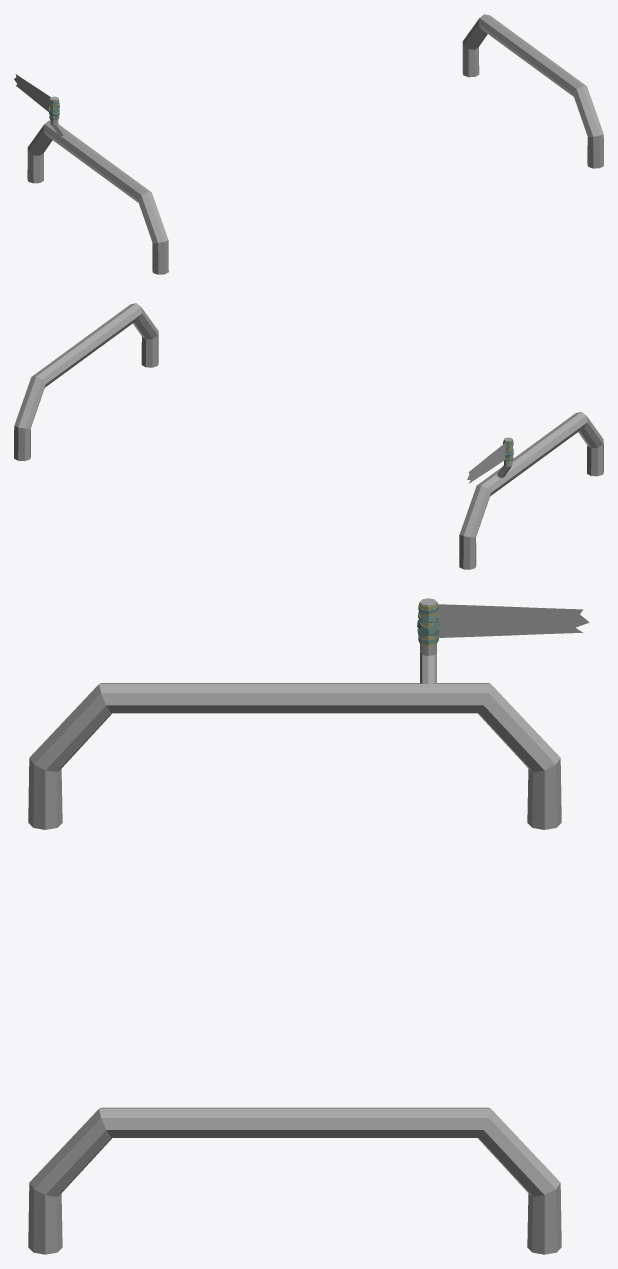
File: BarcoExtra.fbx
3 views of the same model, one above another, from view 1: azimuth 30°, elevation 25°; view 2: azimuth 150°, elevation 25°; view 3: azimuth 270°, elevation 25° (orthographic). The views are drawn at different scales.
Parts seen in each view (by area): view 1: Corrimao.003, BandeiraP; view 2: Corrimao.003, BandeiraP; view 3: Corrimao.003, BandeiraP.
Boxes of the visible parts, x1=… form: Corrimao.003: x1=27, y1=14, x2=603, y2=274; BandeiraP: x1=14, y1=74, x2=50, y2=111; Corrimao.003: x1=14, y1=303, x2=603, y2=569; BandeiraP: x1=467, y1=442, x2=505, y2=483; Corrimao.003: x1=28, y1=598, x2=561, y2=1254; BandeiraP: x1=438, y1=604, x2=589, y2=637.
Size of the model in its own units: 307 by 67.53 by 163.
